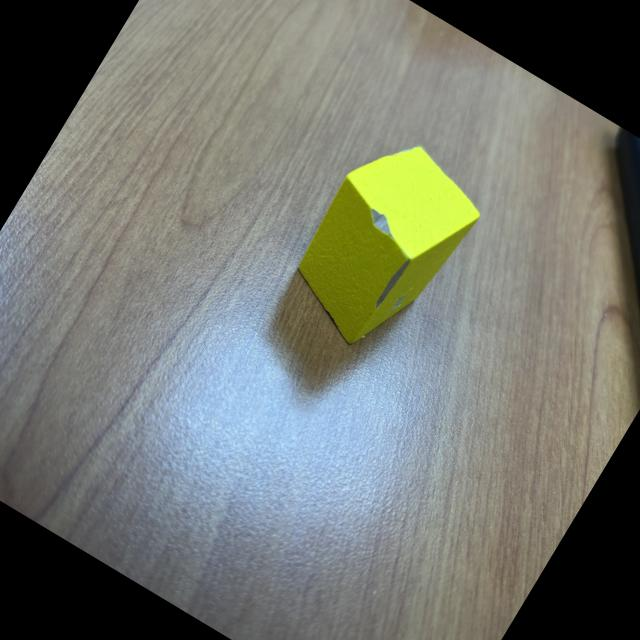broken: (272, 122, 496, 370)
